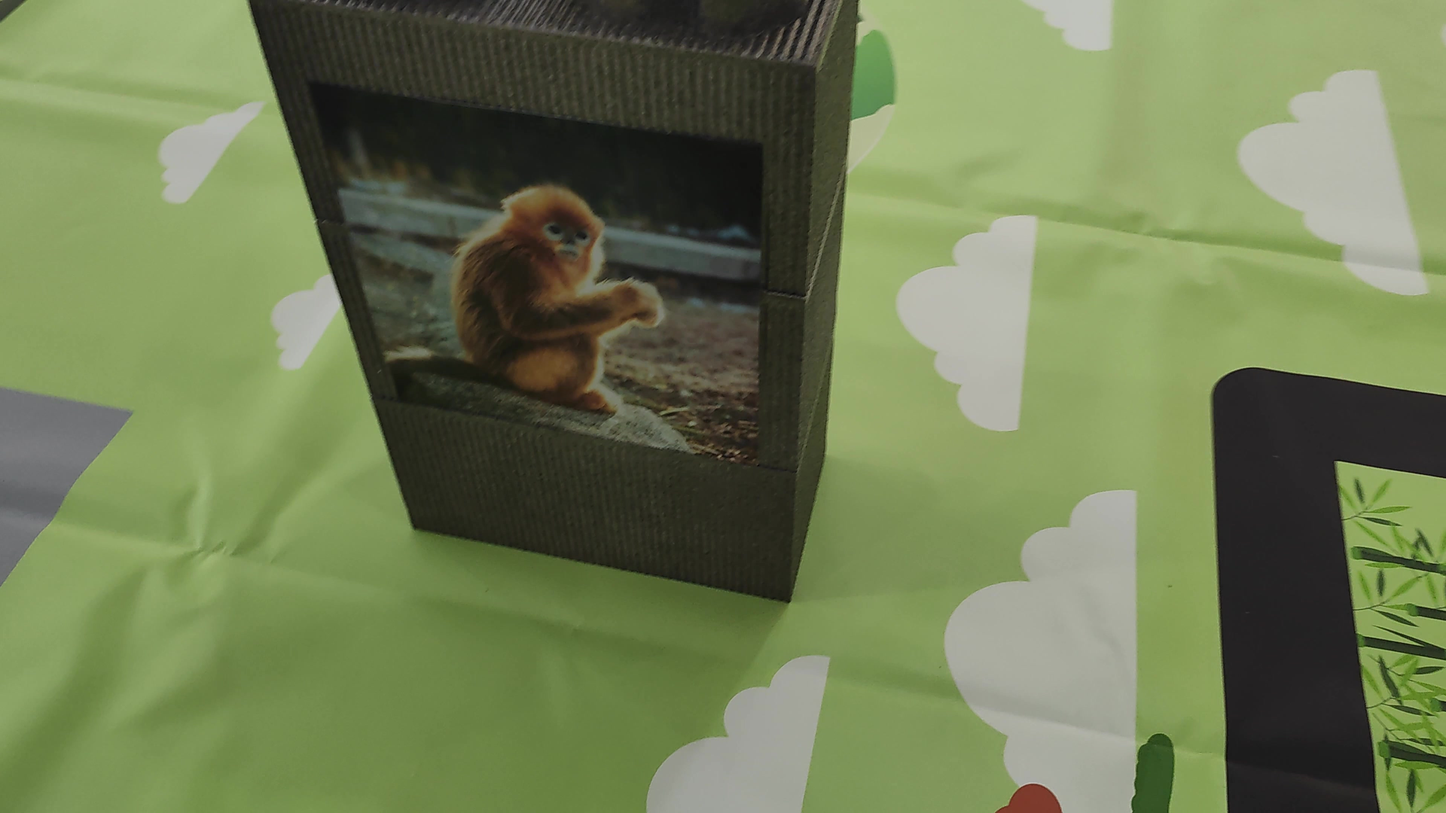monkey: (403, 164, 689, 457)
